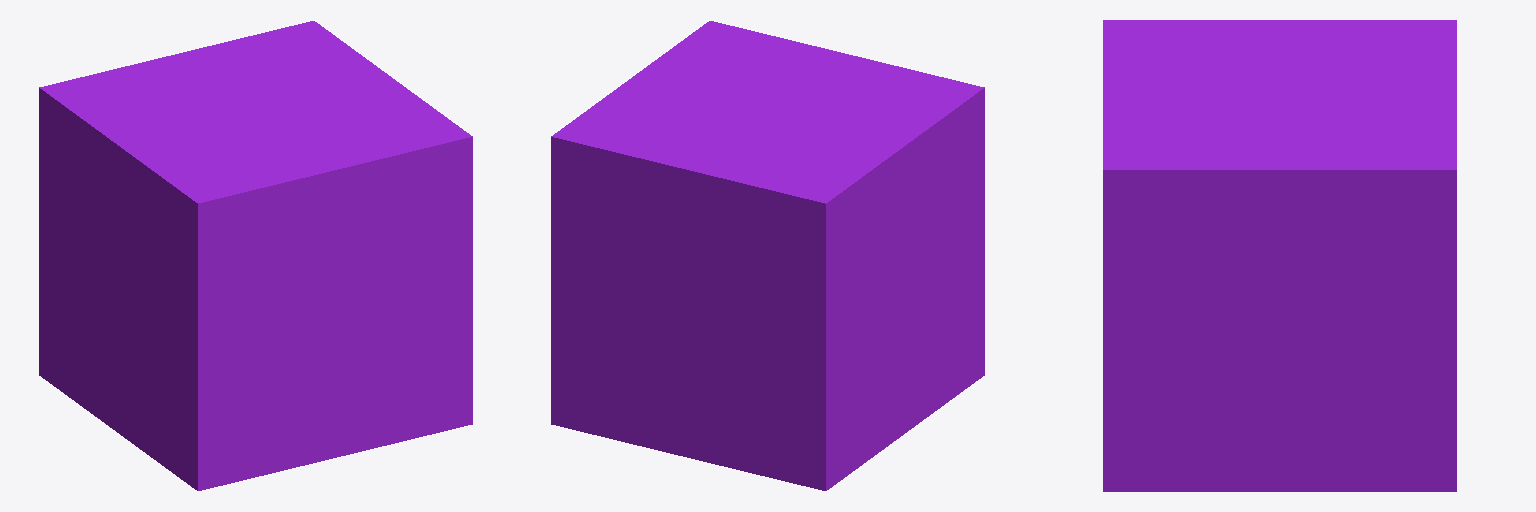
robot.urdf — ball:
<?xml version="1.0" ?>
<robot name="ball">
    <material name="light_gold">
        <color rgba="0.9333333333333333 0.8627450980392157 0.5098039215686274 1"/>
    </material>
    <material name="gray">
        <color rgba="0.7450980392156863 0.7450980392156863 0.7450980392156863 1"/>
    </material>
    <material name="red">
        <color rgba="1 0 0 1"/>
    </material>
    <material name="orange">
        <color rgba="1 0.647058823 0 1"/>
    </material>
     <material name="yellow">
        <color rgba="1 1 0 1"/>
    </material>
    <material name="green">
        <color rgba="0 0.9803921 0.603921   1"/>
    </material>

    <material name="blue">
        <color rgba="0.52941176 0.807843 1   1"/>
    </material>
    <material name="purple">
        <color rgba="0.698 0.2274509 0.933333   1"/>
    </material>


  <link name="ballLink">
    <contact>
      <lateral_friction value="1"/>
    </contact>
    <inertial>
      <origin rpy="0 0 0" xyz="0 0 0"/>
       <mass value="0.021"/>
       <inertia ixx="0.0000028" ixy="0" ixz="0" iyy="0.0000028" iyz="0" izz="0.0000028"/>
    </inertial>
    <visual>
      <origin rpy="0 0 0" xyz="0 0 0"/>
      <geometry>
			<box size= "0.04 0.04 0.04"  />
      </geometry>
        <material name="purple"/>
    </visual>
    <collision>
    <origin rpy="0 0 0" xyz="0 0 0. "/>
      <geometry>
            <box size= "0.04 0.04 0.04"  />
      </geometry>
    </collision>
  </link>
</robot>

--- Facts derived from the render (not from the file) ---
3 views of the same robot in one strip: view 1: azimuth 30°, elevation 25°; view 2: azimuth 150°, elevation 25°; view 3: azimuth 270°, elevation 25° (orthographic).
Model ball with 1 links and 0 joints (none), rooted at ballLink, posed every joint at zero.
Links seen in each view (by area): view 1: ballLink; view 2: ballLink; view 3: ballLink.
Link boxes in pixels (x1,y1,x2,y2): ballLink: (39,21,472,490); ballLink: (551,21,984,490); ballLink: (1103,20,1456,491).
Size in the robot's own frame: 0.04 by 0.04 by 0.04 metres.
Geometry: primitives only (box / cylinder / sphere), no mesh files.